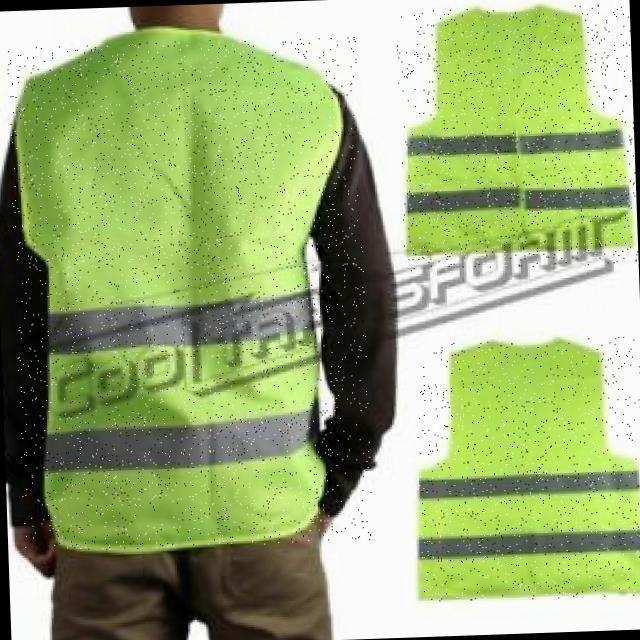vest: (6, 35, 373, 553), (395, 3, 638, 272), (414, 335, 640, 602)
